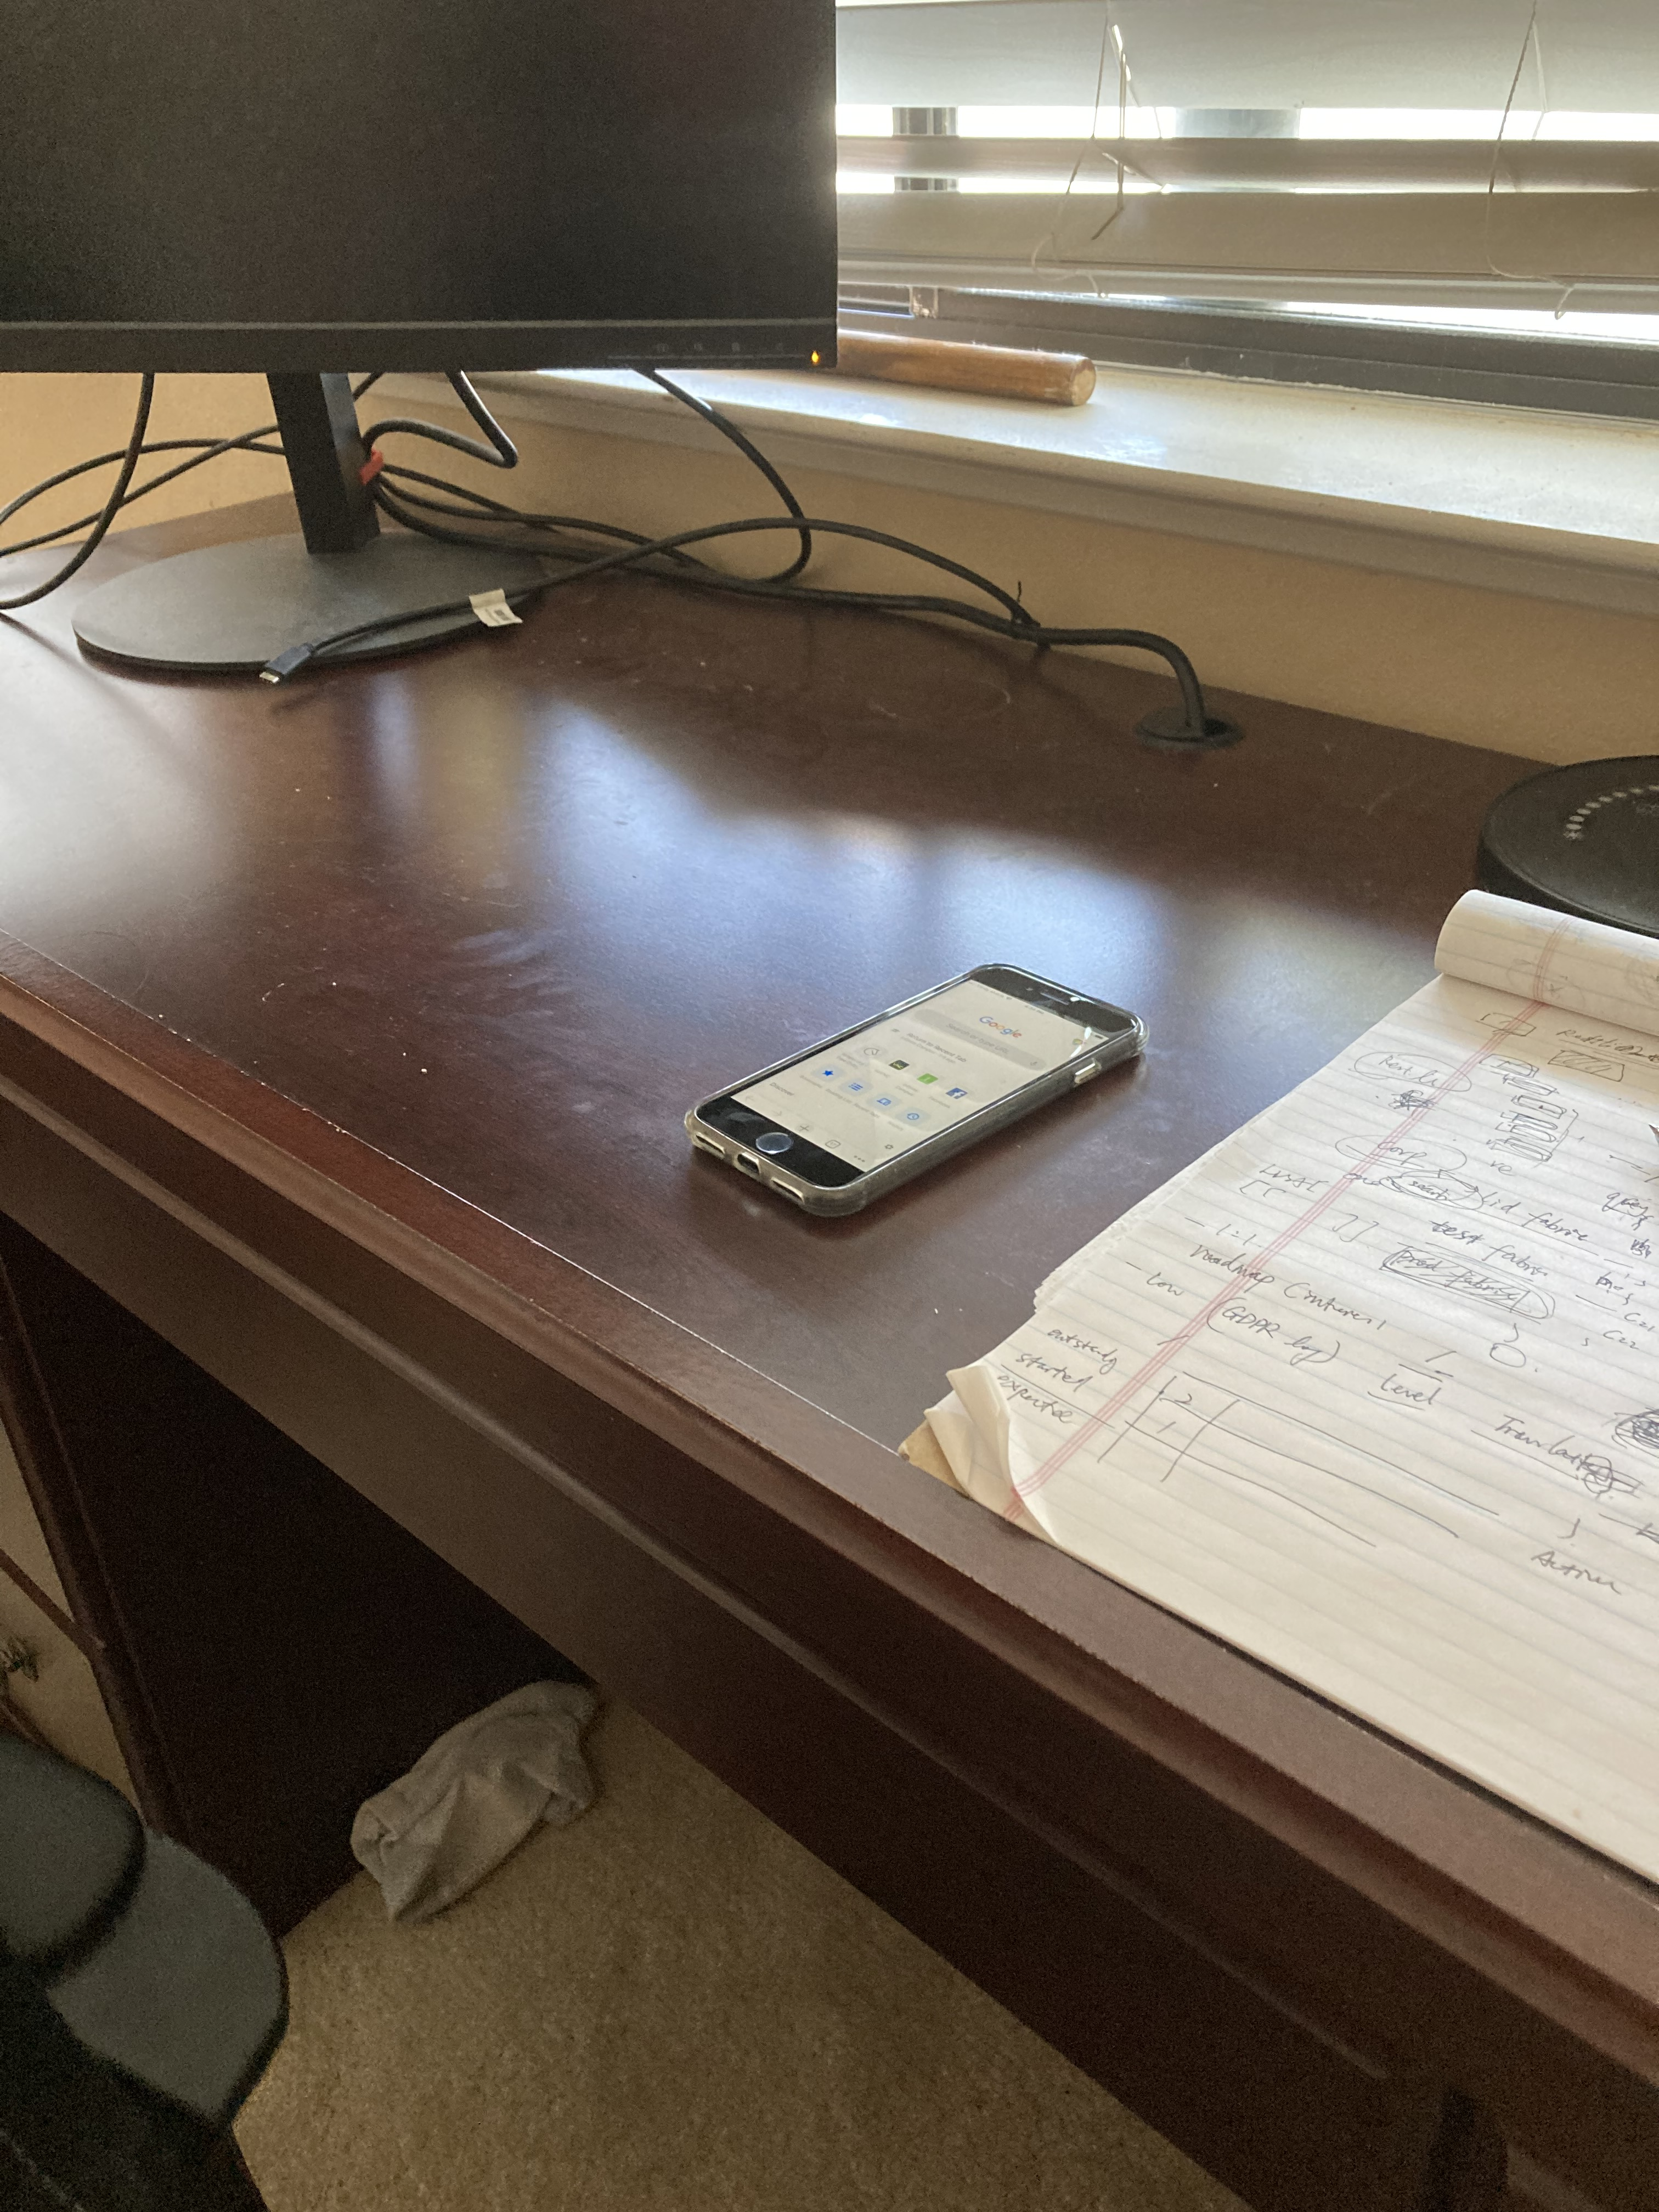Cell Phone: (683, 958, 1152, 1205)
